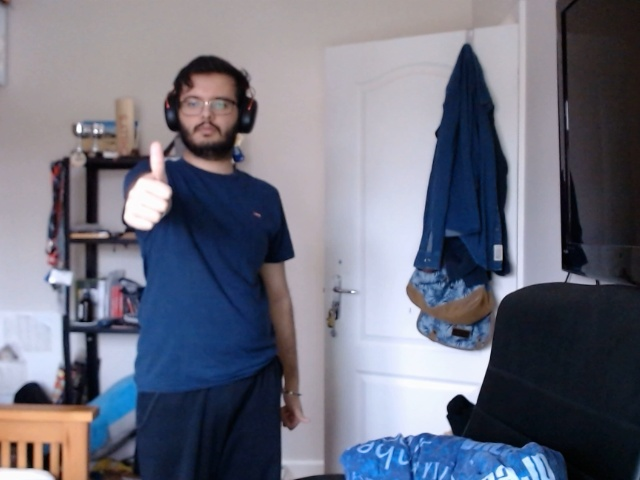Thumbs up: (112, 130, 184, 242)
